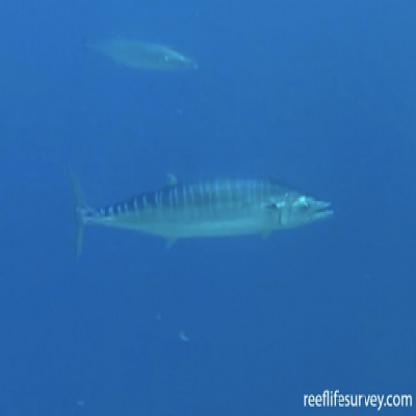Bio: (58, 157, 341, 262)
